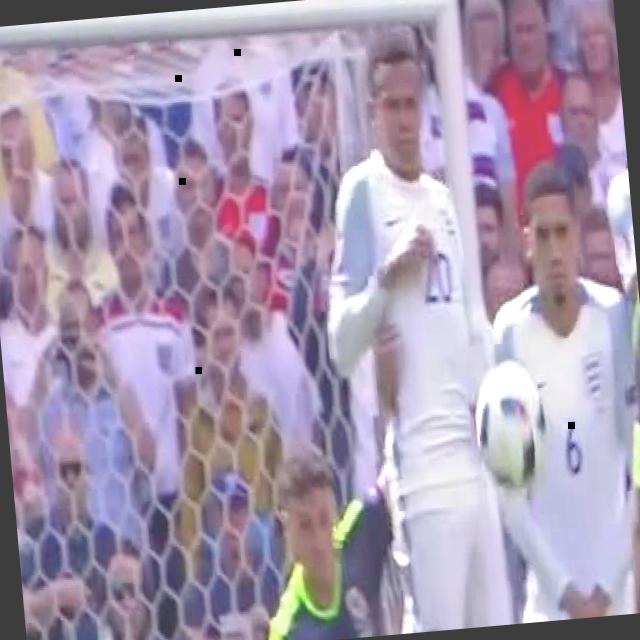ball: (471, 354, 552, 494)
player-white: (304, 19, 524, 638), (472, 155, 640, 624), (78, 437, 419, 640), (583, 76, 640, 614), (594, 22, 640, 612)
